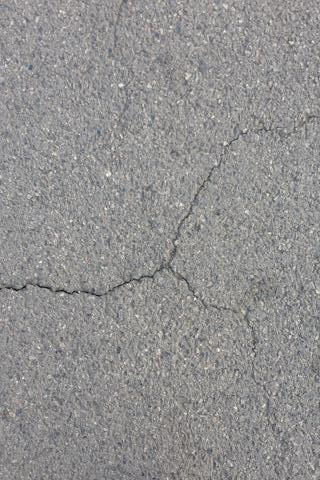A: (1, 114, 319, 350)
